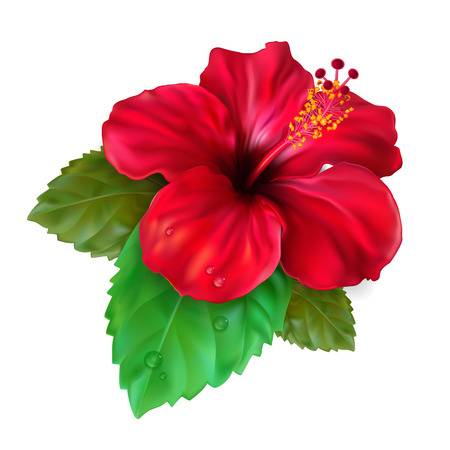Hibiscus: (108, 46, 412, 297)
